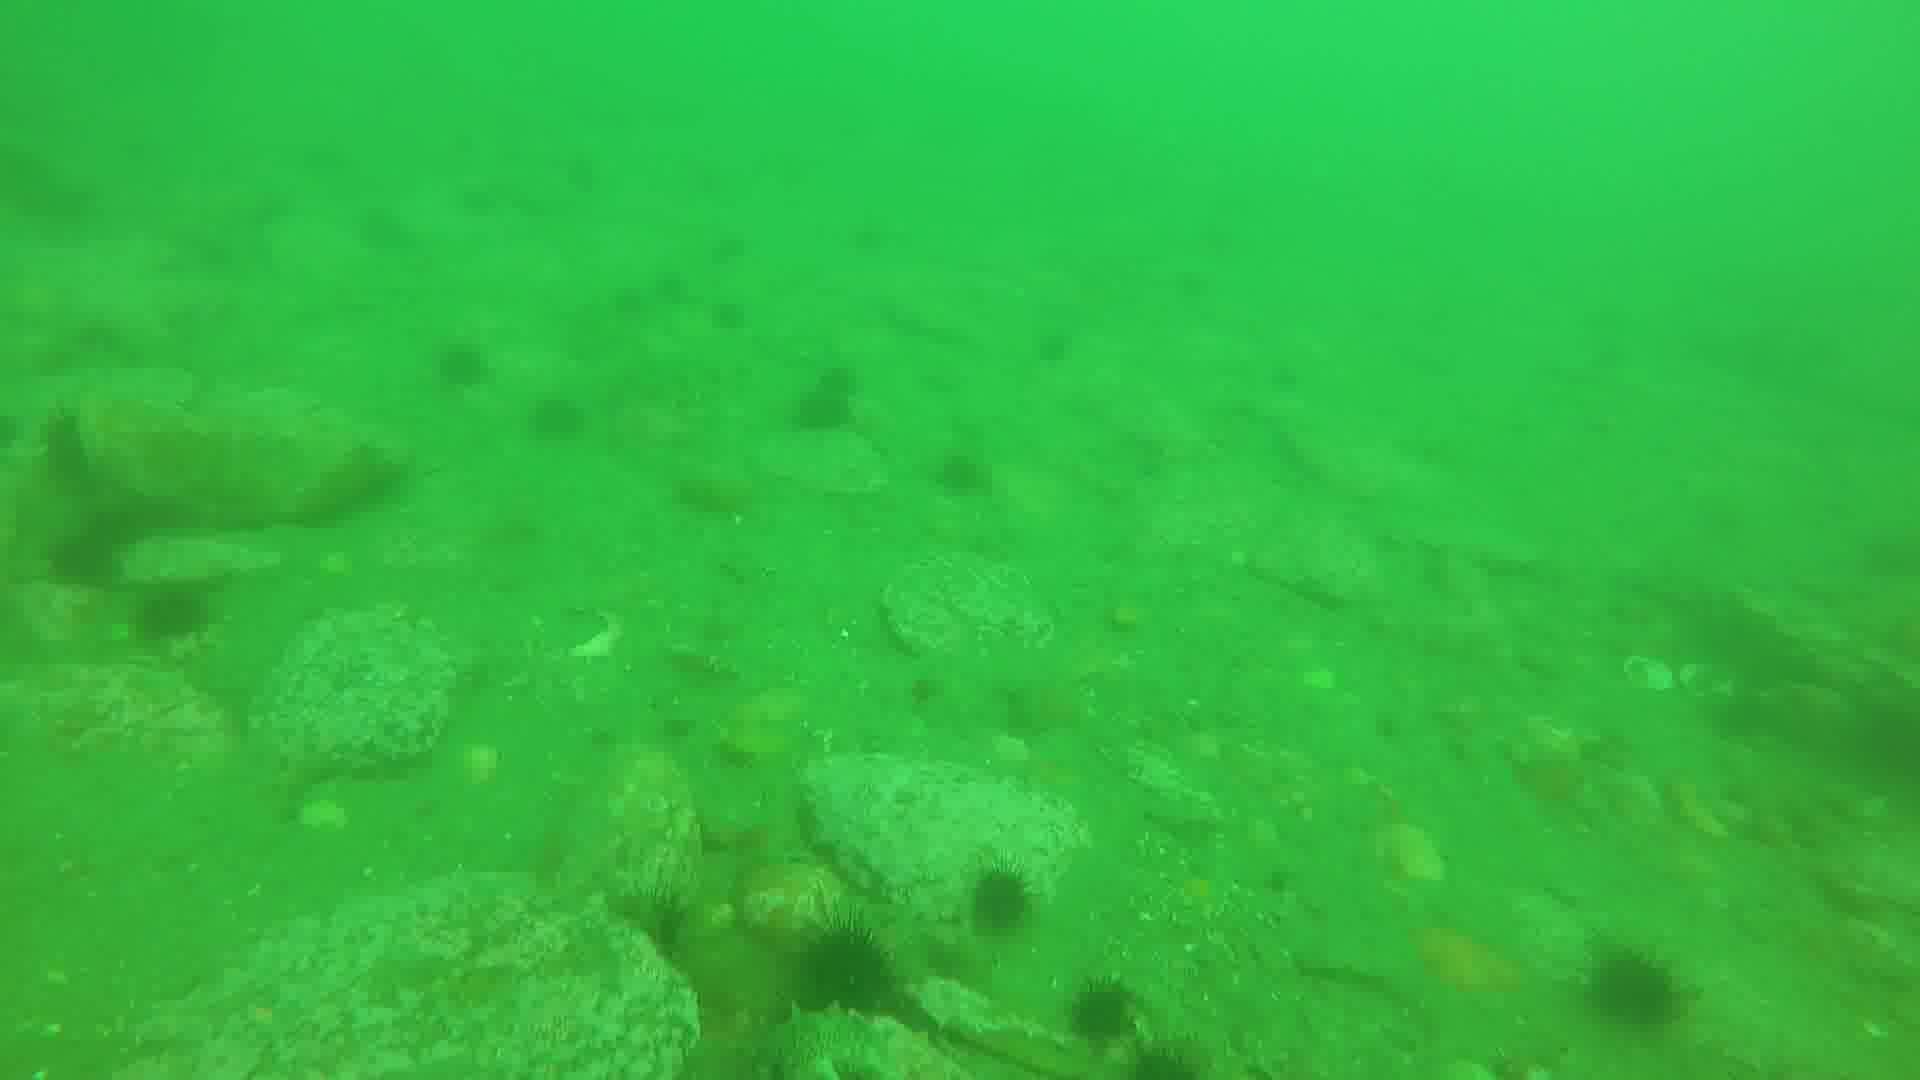echinus: (791, 911, 884, 1005), (1593, 945, 1685, 1038), (46, 542, 127, 603), (135, 582, 208, 644), (46, 417, 104, 495), (1116, 1036, 1215, 1080), (1072, 982, 1135, 1050), (973, 861, 1034, 927), (439, 342, 496, 400), (535, 398, 603, 444), (934, 455, 996, 500), (806, 390, 860, 435)
scallop: (1622, 650, 1683, 700)
